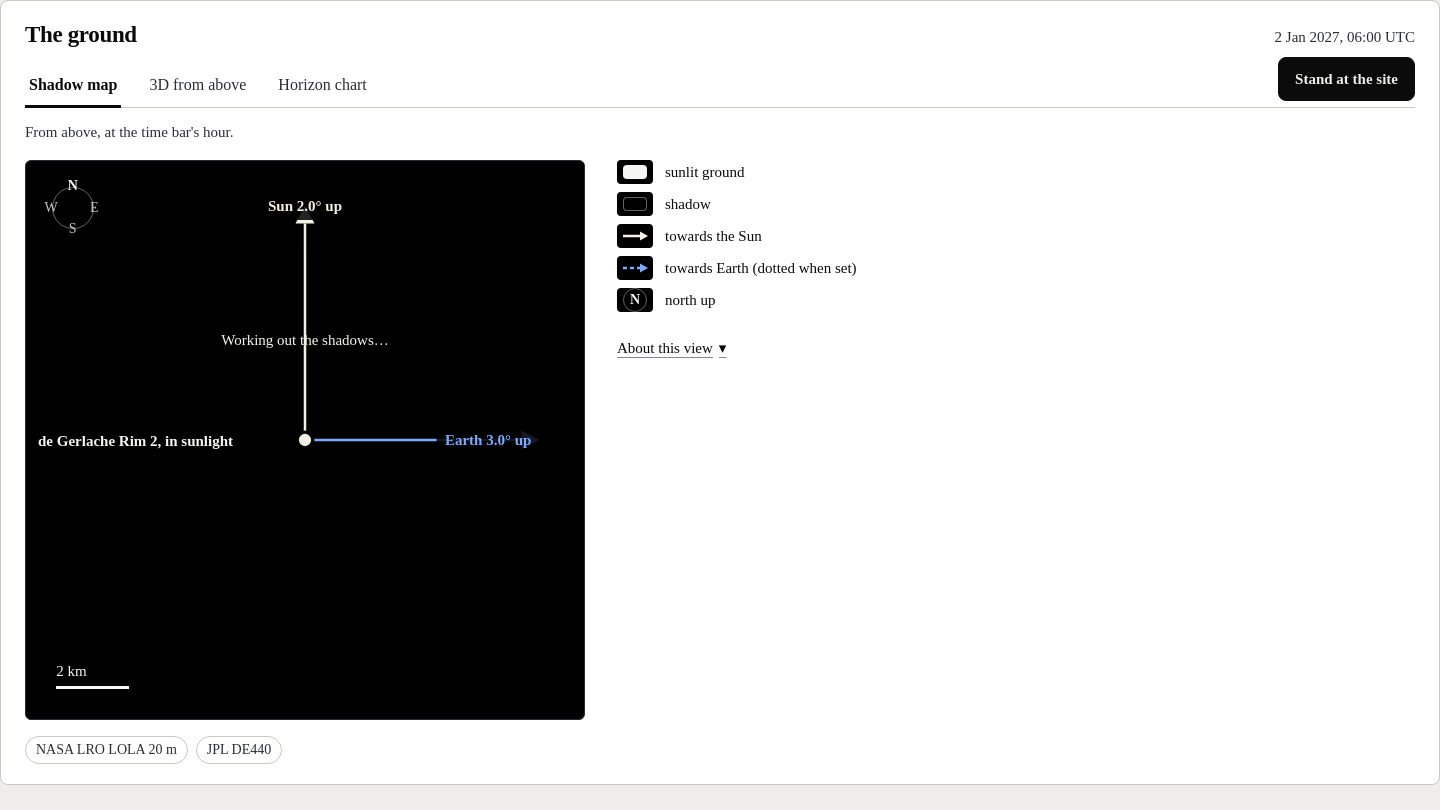
Test: GroundPanel › says under the tabs, in one line of small grey words, what the chosen tab shows
Check: the text "From above, at the time bar's hour." is shown, box x1=25 y1=124 x2=234 y2=140
Click the tab "3D from above" at [198, 86], box x1=146 y1=64 x2=250 y2=108
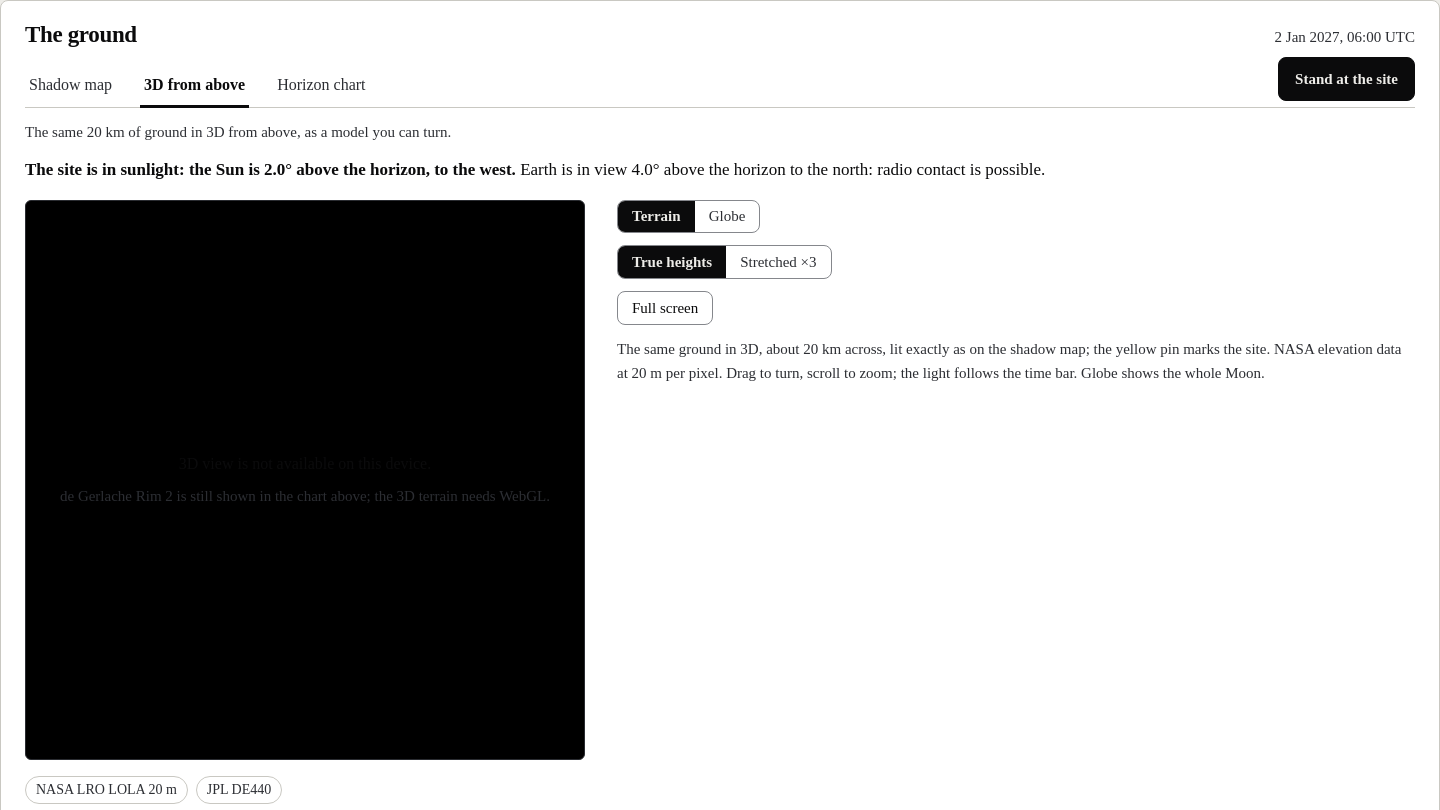
Check: the text "The same 20 km of ground in 3D from above, as a model you can turn." is shown, box x1=25 y1=124 x2=451 y2=140
Click the tab "Horizon chart" at [321, 86], box x1=273 y1=64 x2=370 y2=108
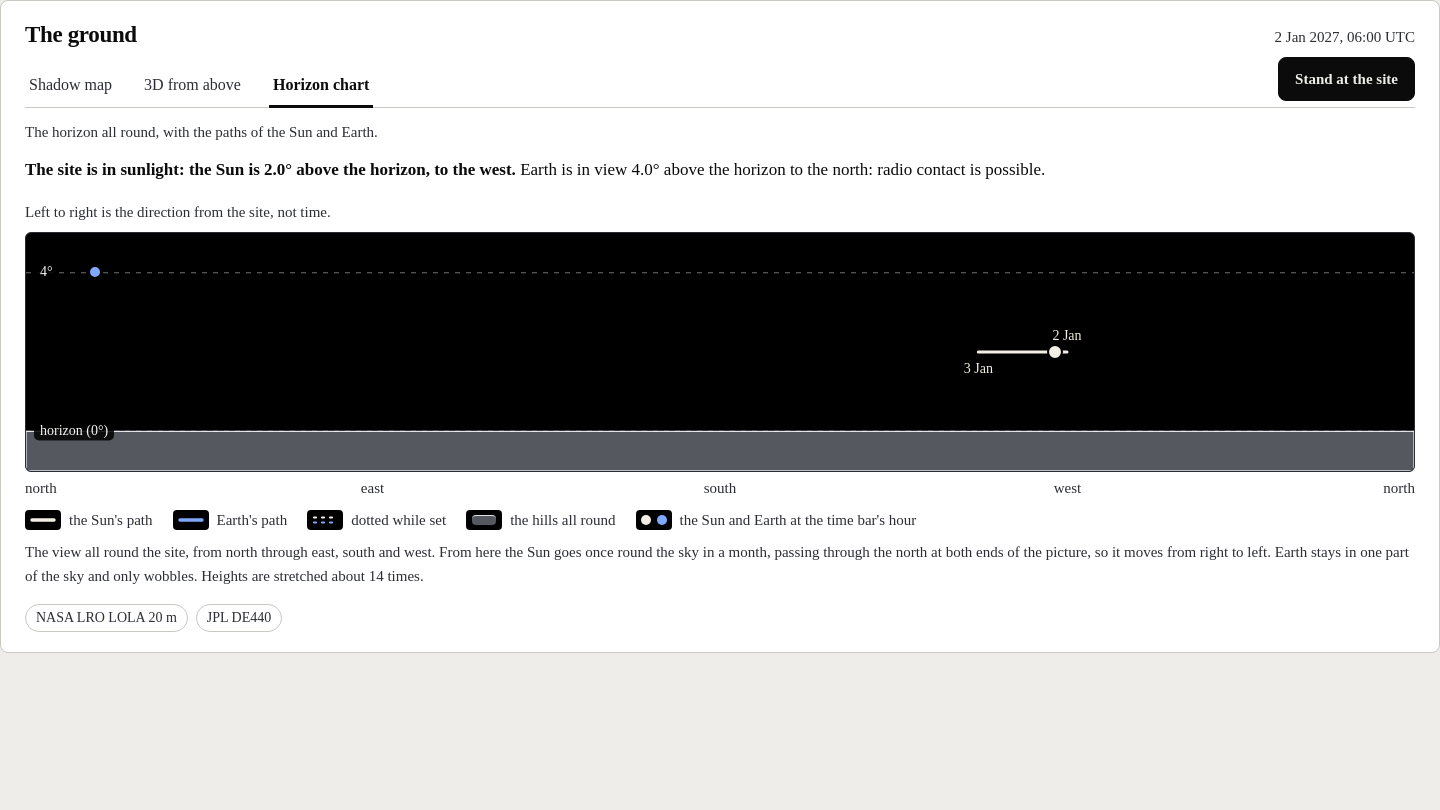
Check: the text "The horizon all round, with the paths of the Sun and Earth." is shown, box x1=25 y1=124 x2=378 y2=140
